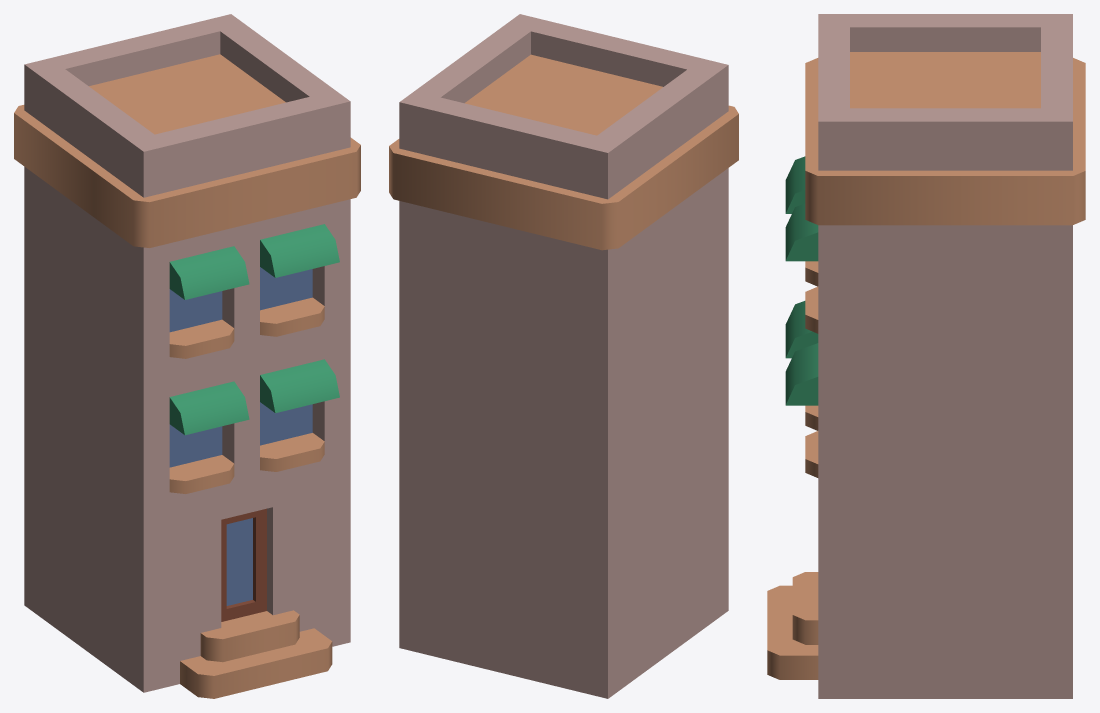
Rendered from building-a.glb.
3 renders of one model, left to right at view 1: azimuth 30°, elevation 25°; view 2: azimuth 150°, elevation 25°; view 3: azimuth 270°, elevation 25°, orthographic. The views are drawn at different scales.
Parts seen in each view (by area): view 1: building; view 2: building; view 3: building.
Part boxes in pixels (x1,y1,x2,y2): building: (14, 14, 360, 698); building: (389, 14, 738, 698); building: (767, 14, 1085, 698).
Bounding box in the file's own units: 1.1 × 2.5 × 1.25.
